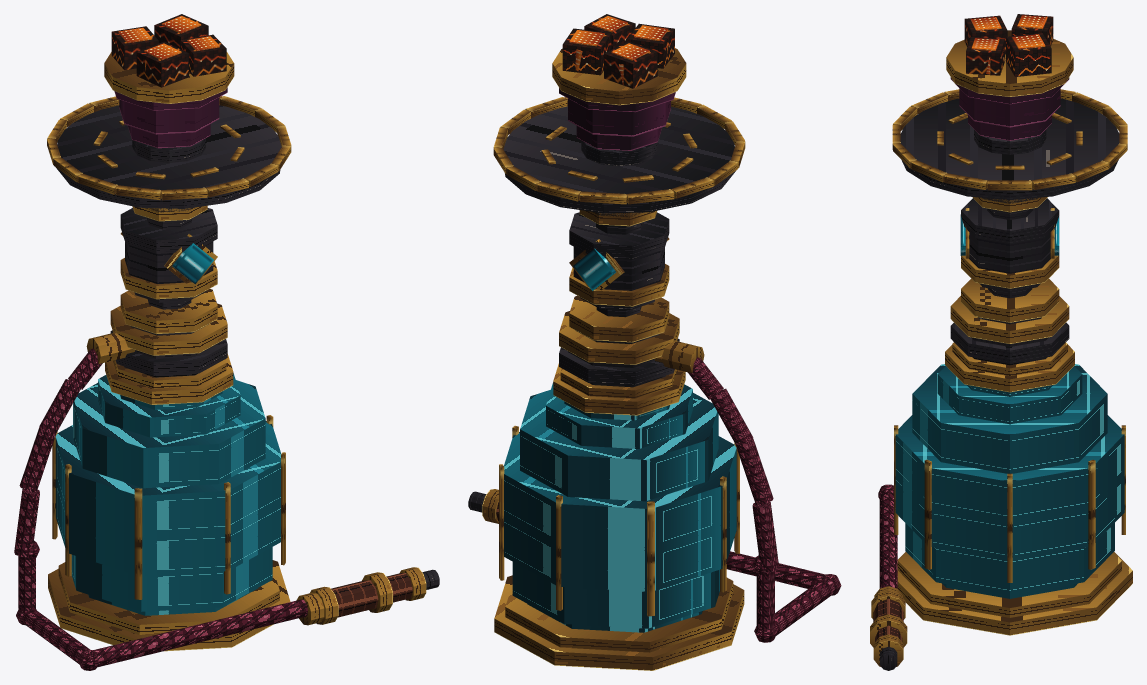
File: luxury_hookah_preview.obj
3 renders of one model, left to right at view 1: azimuth 30°, elevation 25°; view 2: azimuth 150°, elevation 25°; view 3: azimuth 270°, elevation 25°, orthographic. The views are drawn at different scales.
Parts seen in each view (by area): view 1: tray_plate, glass_upper_bulb, glass_shoulder, glass_lower_bulb, glass_lower_flare, glass_taper, base_plinth_upper, base_plinth_lower, bowl_rim, ring_lower_01, ring_crystal_upper, ring_neck_01 (+28 smaller); view 2: tray_plate, glass_shoulder, glass_upper_bulb, glass_lower_bulb, glass_lower_flare, base_plinth_lower, base_plinth_upper, glass_taper, bowl_rim, ring_lower_01, ring_crystal_upper, ring_neck_01 (+28 smaller); view 3: tray_plate, glass_shoulder, glass_upper_bulb, glass_lower_bulb, glass_lower_flare, base_plinth_upper, base_plinth_lower, glass_taper, bowl_rim, ring_crystal_upper, ring_lower_01, ring_neck_01 (+29 smaller).
Part boxes in pixels (left/top/right/bottom): tray_plate: left=56, top=105, right=281, bottom=208; glass_upper_bulb: left=55, top=421, right=281, bottom=535; glass_shoulder: left=73, top=380, right=265, bottom=488; glass_lower_bulb: left=55, top=477, right=280, bottom=575; glass_lower_flare: left=71, top=547, right=272, bottom=611; glass_taper: left=98, top=373, right=240, bottom=437; base_plinth_upper: left=58, top=562, right=279, bottom=634; base_plinth_lower: left=48, top=560, right=290, bottom=651; bowl_rim: left=104, top=52, right=234, bottom=103; ring_lower_01: left=120, top=289, right=217, bottom=334; ring_crystal_upper: left=120, top=208, right=217, bottom=253; ring_neck_01: left=110, top=303, right=227, bottom=355; tray_plate: left=503, top=106, right=735, bottom=213; glass_shoulder: left=520, top=390, right=718, bottom=501; glass_upper_bulb: left=504, top=432, right=736, bottom=550; glass_lower_bulb: left=504, top=489, right=736, bottom=591; glass_lower_flare: left=512, top=562, right=719, bottom=628; base_plinth_lower: left=494, top=575, right=744, bottom=670; base_plinth_upper: left=505, top=577, right=733, bottom=652; glass_taper: left=546, top=382, right=692, bottom=448; bowl_rim: left=552, top=48, right=686, bottom=105; ring_lower_01: left=569, top=295, right=669, bottom=342; ring_crystal_upper: left=569, top=212, right=669, bottom=259; ring_neck_01: left=559, top=311, right=679, bottom=364; tray_plate: left=900, top=98, right=1119, bottom=199; glass_shoulder: left=912, top=364, right=1107, bottom=473; glass_upper_bulb: left=895, top=415, right=1124, bottom=520; glass_lower_bulb: left=895, top=474, right=1124, bottom=559; glass_lower_flare: left=905, top=523, right=1114, bottom=595; base_plinth_upper: left=898, top=552, right=1121, bottom=617; base_plinth_lower: left=897, top=552, right=1132, bottom=635; glass_taper: left=937, top=366, right=1082, bottom=424; bowl_rim: left=946, top=30, right=1073, bottom=96; ring_crystal_upper: left=961, top=198, right=1059, bottom=244; ring_lower_01: left=961, top=278, right=1059, bottom=322; ring_neck_01: left=950, top=296, right=1069, bottom=343.
Bounding box in the file's own units: 1.75 × 2.64 × 1.14.
